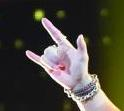back: (22, 14, 90, 83)
